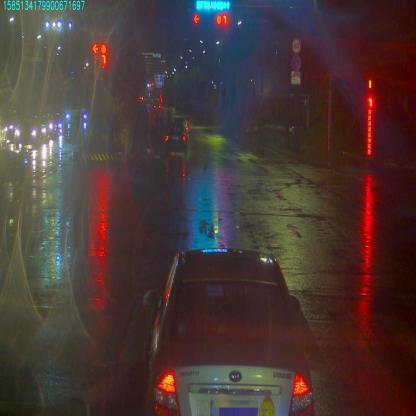traffic-light: (196, 0, 231, 13), (216, 16, 230, 29), (192, 11, 201, 23)
